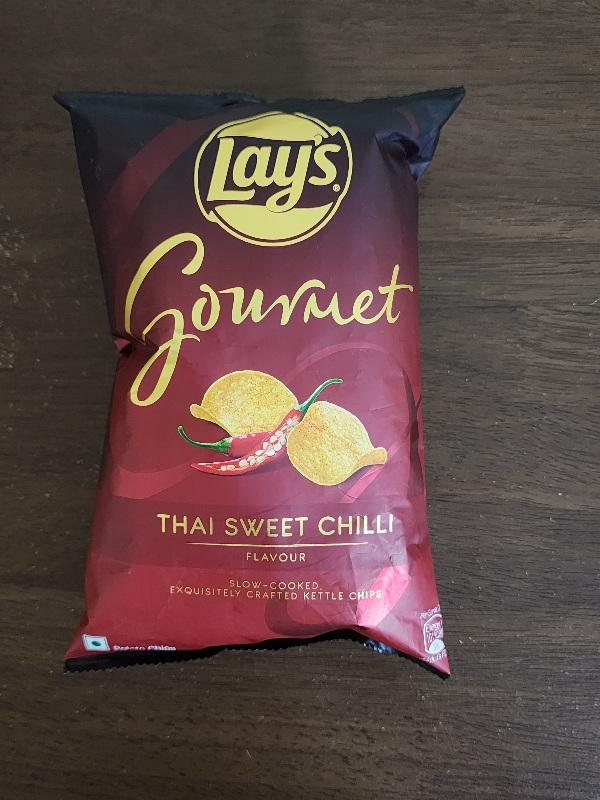Lays: (53, 85, 469, 678)
